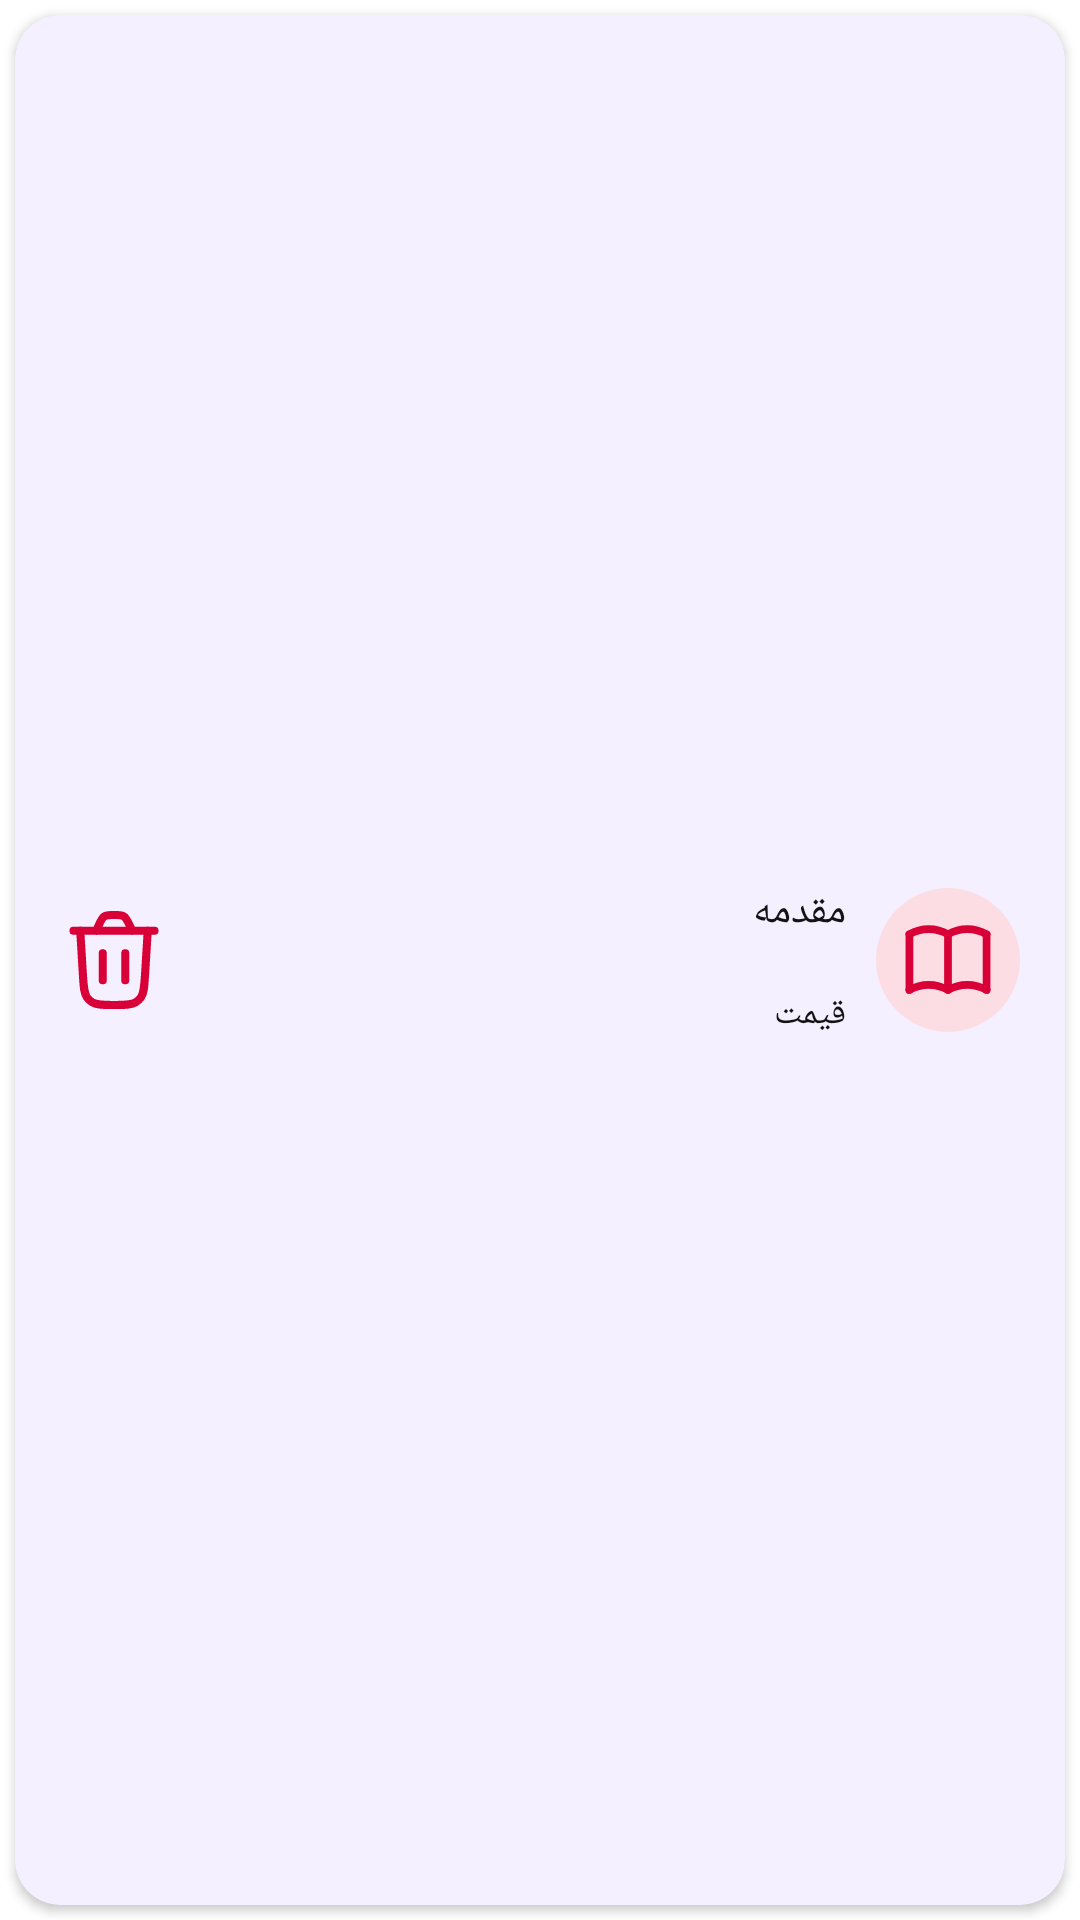

Icon click points for this 1080px×1920px phone screenshot, format (x=x, y=y):
book open: (x=948, y=960)
deleted: (x=114, y=960)
